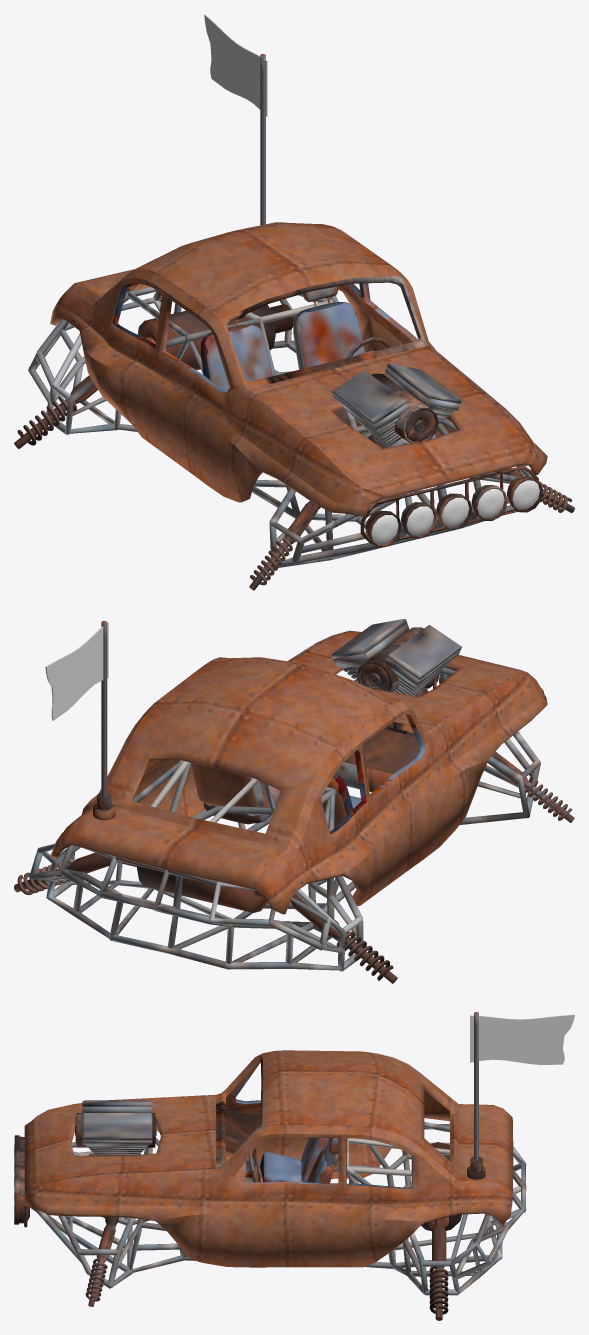
File: Coche_Malo_01_Carroceria.fbx
3 renders of one model, top to bottom at view 1: azimuth 30°, elevation 25°; view 2: azimuth 150°, elevation 25°; view 3: azimuth 270°, elevation 25°, orthographic. The views are drawn at different scales.
Parts seen in each view (by area): view 1: Plane.002; view 2: Plane.002; view 3: Plane.002.
Part boxes in pixels (box(x1,y1,x2,y2)): Plane.002: box(14, 14, 574, 590); Plane.002: box(14, 619, 574, 983); Plane.002: box(14, 1012, 574, 1320).
Size of the model in its own units: 736 by 591 by 1112.
